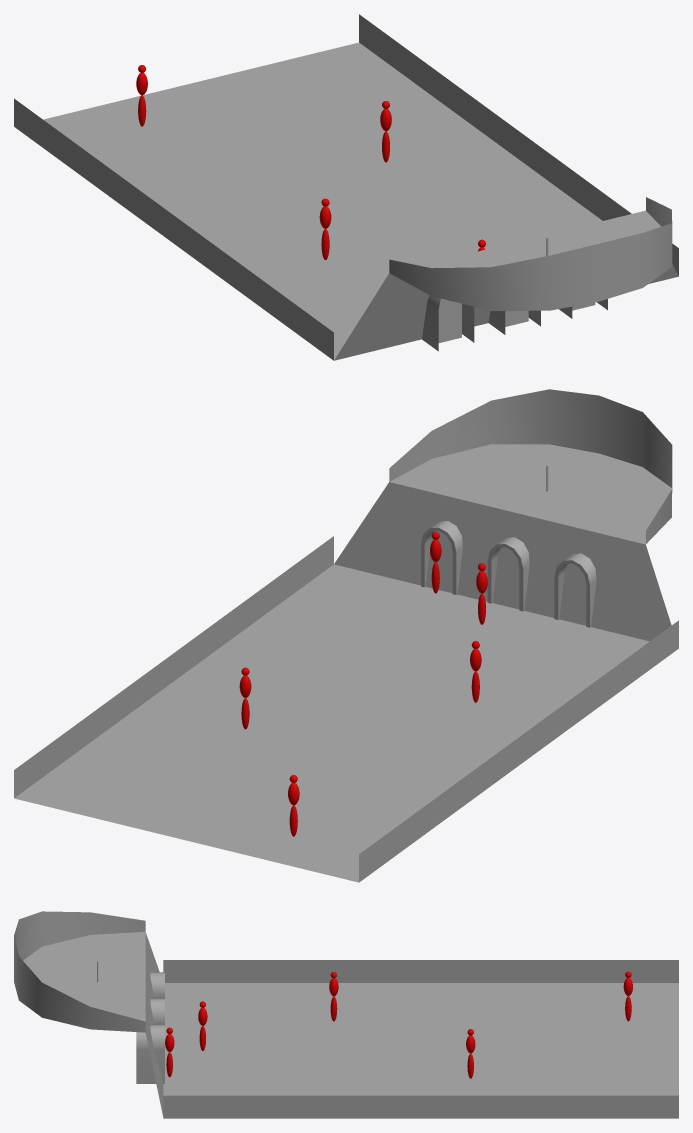
Rendered from Scene_01_Blockout.fbx.
3 views of the same model, one above another, from view 1: azimuth 30°, elevation 25°; view 2: azimuth 150°, elevation 25°; view 3: azimuth 270°, elevation 25° (orthographic). The views are drawn at different scales.
Visible parts, largest first — view 1: ShipDeck, TreasureDoor_3, TreasureDoor_1; view 2: ShipDeck, TreasureDoor_1, TreasureDoor_3, TreasureDoor_2; view 3: ShipDeck, TreasureDoor_2, TreasureDoor_1, TreasureDoor_3.
Part boxes in pixels (left/top/right/bottom): ShipDeck: left=14, top=14, right=678, bottom=360; TreasureDoor_3: left=422, top=295, right=474, bottom=351; TreasureDoor_1: left=488, top=310, right=540, bottom=334; ShipDeck: left=14, top=389, right=678, bottom=882; TreasureDoor_1: left=487, top=537, right=529, bottom=611; TreasureDoor_3: left=554, top=553, right=596, bottom=627; TreasureDoor_2: left=421, top=521, right=462, bottom=594; ShipDeck: left=14, top=911, right=678, bottom=1118; TreasureDoor_2: left=136, top=1024, right=164, bottom=1083; TreasureDoor_1: left=150, top=998, right=164, bottom=1024; TreasureDoor_3: left=150, top=972, right=164, bottom=998.
Bounding box in the file's own units: 10.15 × 4.04 × 21.02.
